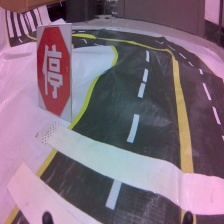stop: (36, 23, 73, 122)
